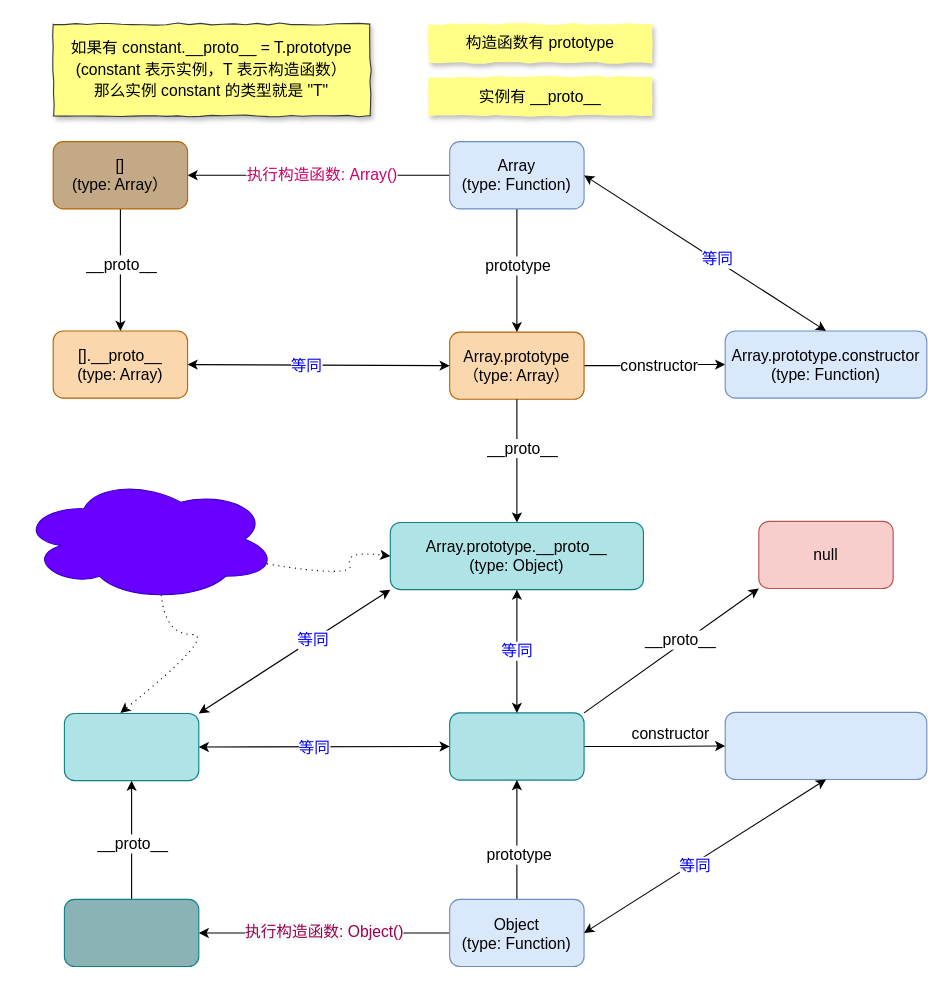
Image size: 946x987. Some labels were removed from this diagram. The centre of each missing label's shape, as x and y in pixels:
({}).__proto__ (type: Object): (x=131, y=746)
Array.prototype ≈ {}, Array.prototype是 Object 的一个实例: (x=147, y=539)
Object.prototype （type: Object）: (x=516, y=746)
Object.prototype.constructor (type: Function): (x=825, y=745)
{} (type: Object）: (x=131, y=932)
